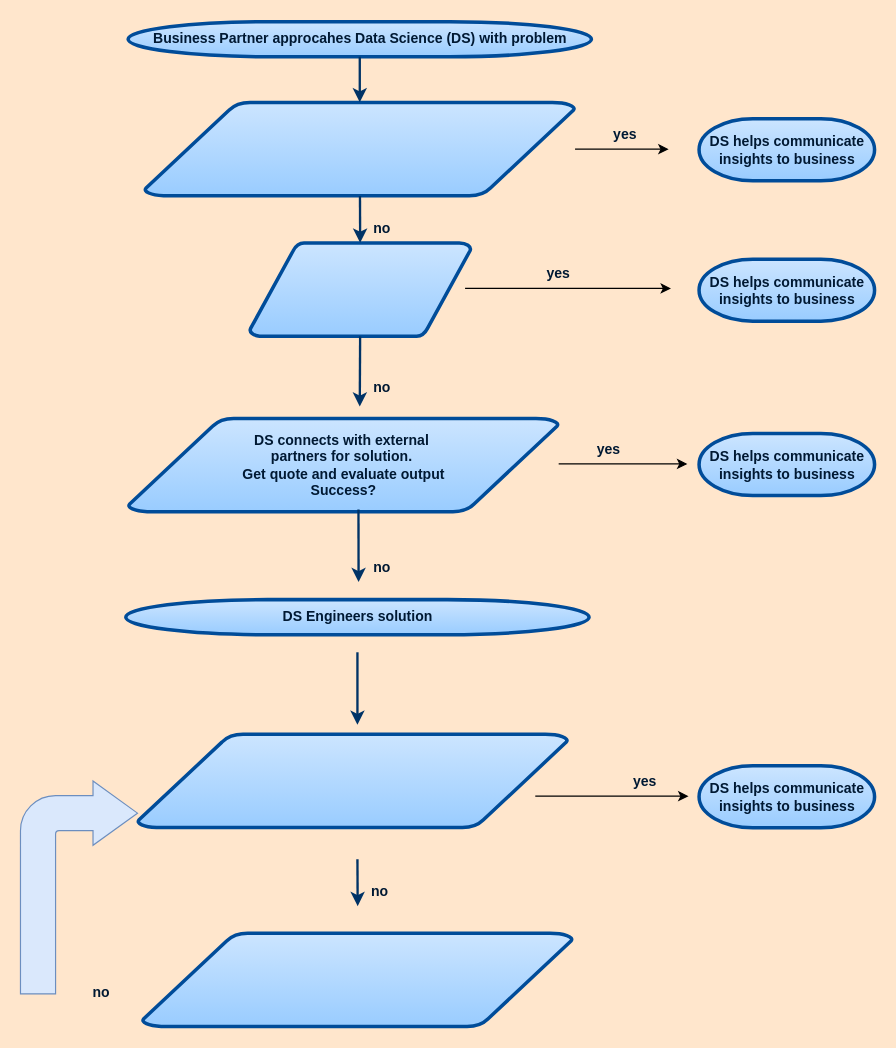
Image size: 896x1048. Some labels were removed from this diagram. The shapes that lost their labels are listed below. From the top down, each one's box as (x1, y1, x2, y2) in pixels, then its label:
(142, 100, 576, 197): DS connects problem with other similar problems and previous solution. Success?
(247, 240, 472, 338): DS connects with other internal partners for solution. Success?
(135, 732, 569, 829): Consult with team that solution meets need. Success?
(140, 931, 574, 1028): Fix business solution to meet client needs. Success?
